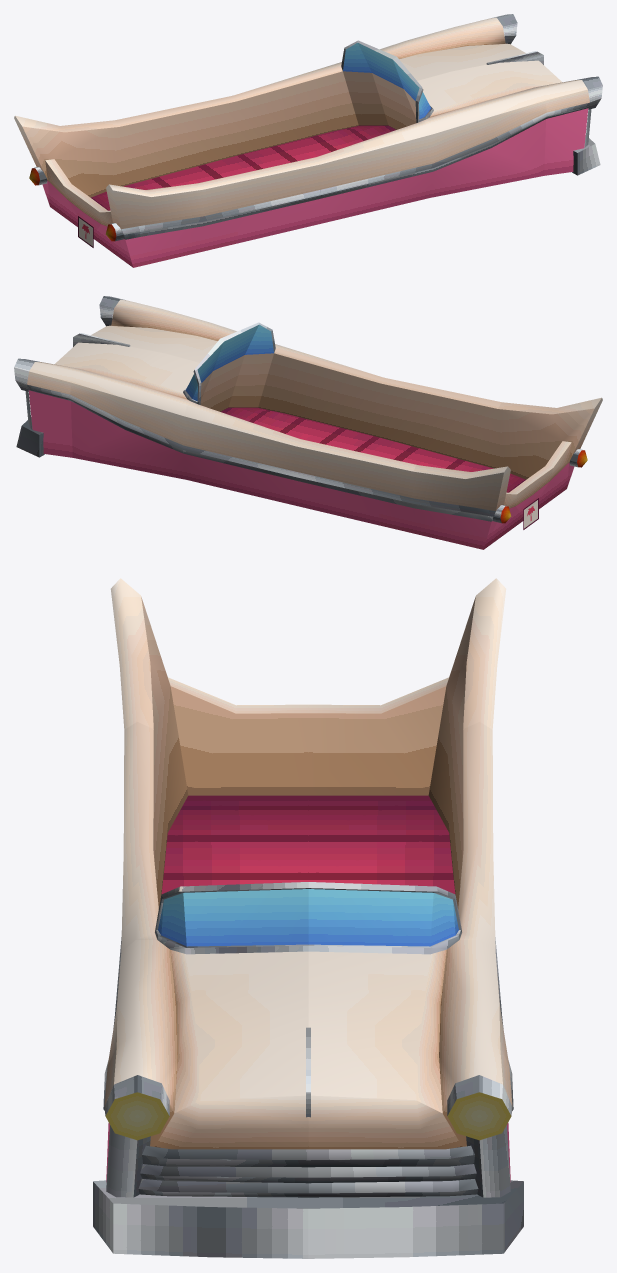
Rendered from HavanaBoard.glb.
The picture shows the model from 3 angles, top to bottom: view 1: azimuth 30°, elevation 25°; view 2: azimuth 150°, elevation 25°; view 3: azimuth 270°, elevation 25°; orthographic projection. The views are drawn at different scales.
Visible parts, largest first — view 1: HavanaBoard; view 2: HavanaBoard; view 3: HavanaBoard.
Part boxes in pixels (box(x1,y1,x2,y2)): HavanaBoard: box(14, 14, 602, 267); HavanaBoard: box(14, 296, 602, 549); HavanaBoard: box(93, 578, 523, 1258).
Size of the model in its own units: 12.24 by 2.61 by 4.62.
1 material, 1 textured.
